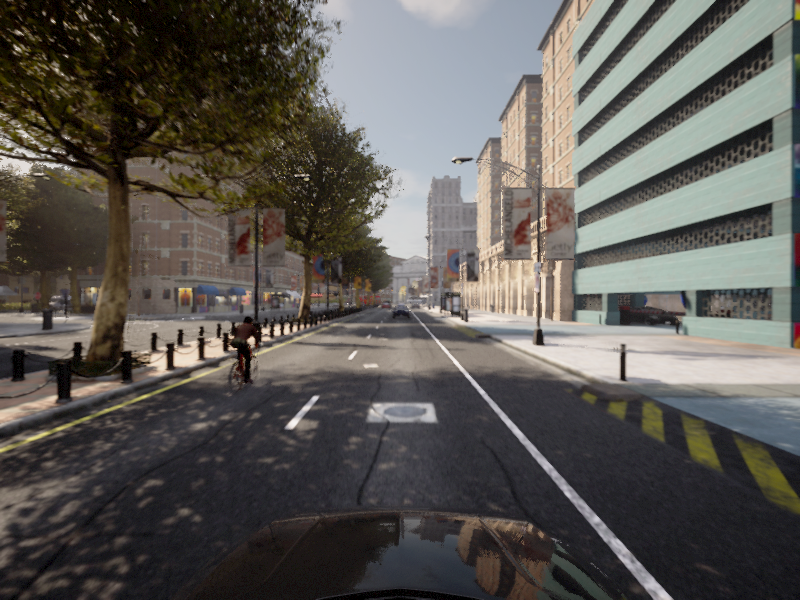vehicle: (215, 315, 270, 397), (392, 305, 410, 318)
